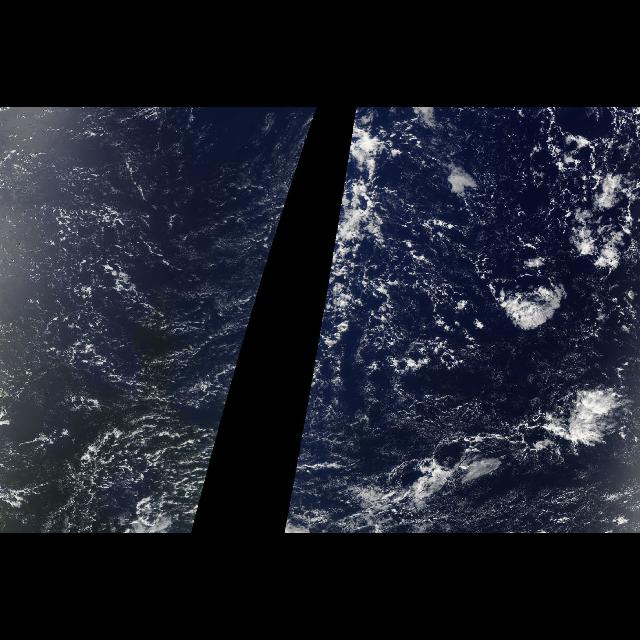Gravel: (318, 108, 634, 396), (17, 200, 213, 528)
Sugar: (448, 468, 640, 524)
